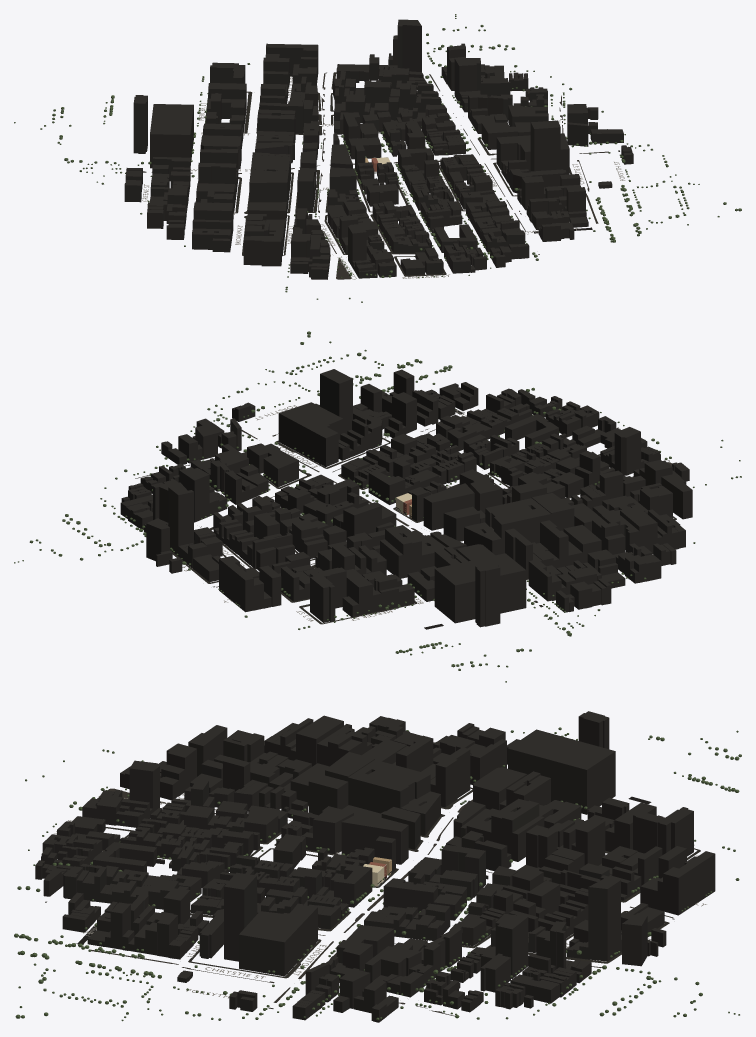
The model's file is houston_51.glb.
The picture shows the model from 3 angles, top to bottom: view 1: azimuth 30°, elevation 25°; view 2: azimuth 150°, elevation 25°; view 3: azimuth 270°, elevation 25°; orthographic projection. The views are drawn at different scales.
Parts seen in each view (by area): view 1: NOLITA_MASSING, TREES, SIDEWALK, MEDIAN; view 2: NOLITA_MASSING, TREES, SIDEWALK; view 3: NOLITA_MASSING, TREES, SIDEWALK, MEDIAN.
Boxes of the visible parts, x1,y1,x2,y2 form: NOLITA_MASSING: (124,19,633,279); TREES: (14,14,741,302); SIDEWALK: (143,72,619,276); MEDIAN: (238,73,608,279); NOLITA_MASSING: (120,369,692,627); TREES: (14,331,741,682); SIDEWALK: (170,424,676,624); NOLITA_MASSING: (35,711,715,1022); TREES: (14,727,741,1021); SIDEWALK: (45,787,700,1008); MEDIAN: (91,788,673,1016).
Size of what is drawn, in the model's own units: 846 by 105 by 887.
